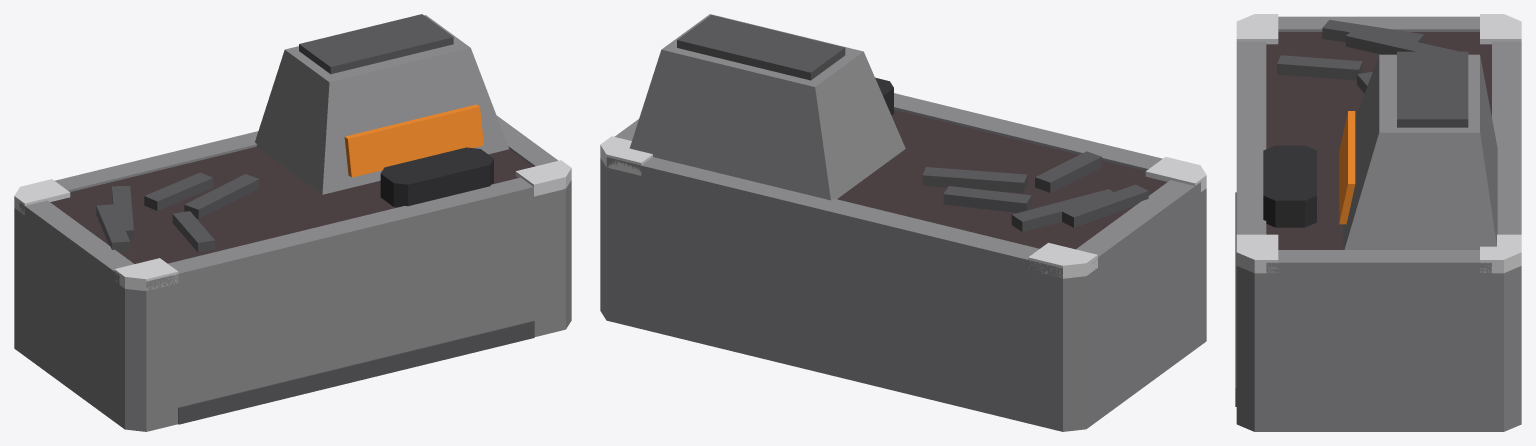
Rendered from vge_compact_smithy.obj.
3 views of the same model, side by side, from view 1: azimuth 30°, elevation 25°; view 2: azimuth 150°, elevation 25°; view 3: azimuth 270°, elevation 25° (orthographic). The views are drawn at different scales.
Parts seen in each view (by area): view 1: vge_compact_smithy_0, vge_compact_smithy_16, vge_compact_smithy_1, vge_compact_smithy_2, vge_compact_smithy_10, vge_compact_smithy_18, vge_compact_smithy_17, vge_compact_smithy_19, vge_compact_smithy_3, vge_compact_smithy_4, vge_compact_smithy_14, vge_compact_smithy_6 (+7 smaller); view 2: vge_compact_smithy_0, vge_compact_smithy_16, vge_compact_smithy_1, vge_compact_smithy_3, vge_compact_smithy_17, vge_compact_smithy_2, vge_compact_smithy_4, vge_compact_smithy_14, vge_compact_smithy_11, vge_compact_smithy_13, vge_compact_smithy_7, vge_compact_smithy_12 (+3 smaller); view 3: vge_compact_smithy_0, vge_compact_smithy_16, vge_compact_smithy_1, vge_compact_smithy_2, vge_compact_smithy_17, vge_compact_smithy_3, vge_compact_smithy_5, vge_compact_smithy_19, vge_compact_smithy_4, vge_compact_smithy_15, vge_compact_smithy_18, vge_compact_smithy_8 (+6 smaller).
Part boxes in pixels (<box>): vge_compact_smithy_0: <box>14,180,571,431</box>; vge_compact_smithy_16: <box>255,15,508,194</box>; vge_compact_smithy_1: <box>50,146,532,263</box>; vge_compact_smithy_2: <box>146,177,565,290</box>; vge_compact_smithy_10: <box>178,321,534,424</box>; vge_compact_smithy_18: <box>344,104,483,177</box>; vge_compact_smithy_17: <box>299,14,453,74</box>; vge_compact_smithy_19: <box>380,147,493,207</box>; vge_compact_smithy_3: <box>54,131,258,191</box>; vge_compact_smithy_4: <box>19,200,134,284</box>; vge_compact_smithy_14: <box>184,174,259,218</box>; vge_compact_smithy_6: <box>114,258,178,290</box>; vge_compact_smithy_0: <box>600,158,1206,431</box>; vge_compact_smithy_16: <box>629,14,905,200</box>; vge_compact_smithy_1: <box>837,109,1167,249</box>; vge_compact_smithy_3: <box>606,157,1062,278</box>; vge_compact_smithy_17: <box>677,15,845,80</box>; vge_compact_smithy_2: <box>894,93,1162,170</box>; vge_compact_smithy_4: <box>1076,180,1200,268</box>; vge_compact_smithy_14: <box>922,167,1027,193</box>; vge_compact_smithy_11: <box>1061,184,1148,227</box>; vge_compact_smithy_13: <box>943,186,1031,212</box>; vge_compact_smithy_7: <box>1028,242,1097,278</box>; vge_compact_smithy_12: <box>1011,189,1118,231</box>; vge_compact_smithy_0: <box>1236,266,1521,431</box>; vge_compact_smithy_16: <box>1343,54,1497,249</box>; vge_compact_smithy_1: <box>1266,32,1491,249</box>; vge_compact_smithy_2: <box>1236,41,1266,234</box>; vge_compact_smithy_17: <box>1397,51,1468,127</box>; vge_compact_smithy_3: <box>1492,41,1521,234</box>; vge_compact_smithy_5: <box>1266,250,1491,273</box>; vge_compact_smithy_19: <box>1263,145,1316,227</box>; vge_compact_smithy_4: <box>1278,16,1479,31</box>; vge_compact_smithy_15: <box>1277,55,1362,80</box>; vge_compact_smithy_18: <box>1339,111,1355,224</box>; vge_compact_smithy_8: <box>1236,234,1278,273</box>.
Size of the model in its own units: 1.96 by 1.05 by 0.965.
